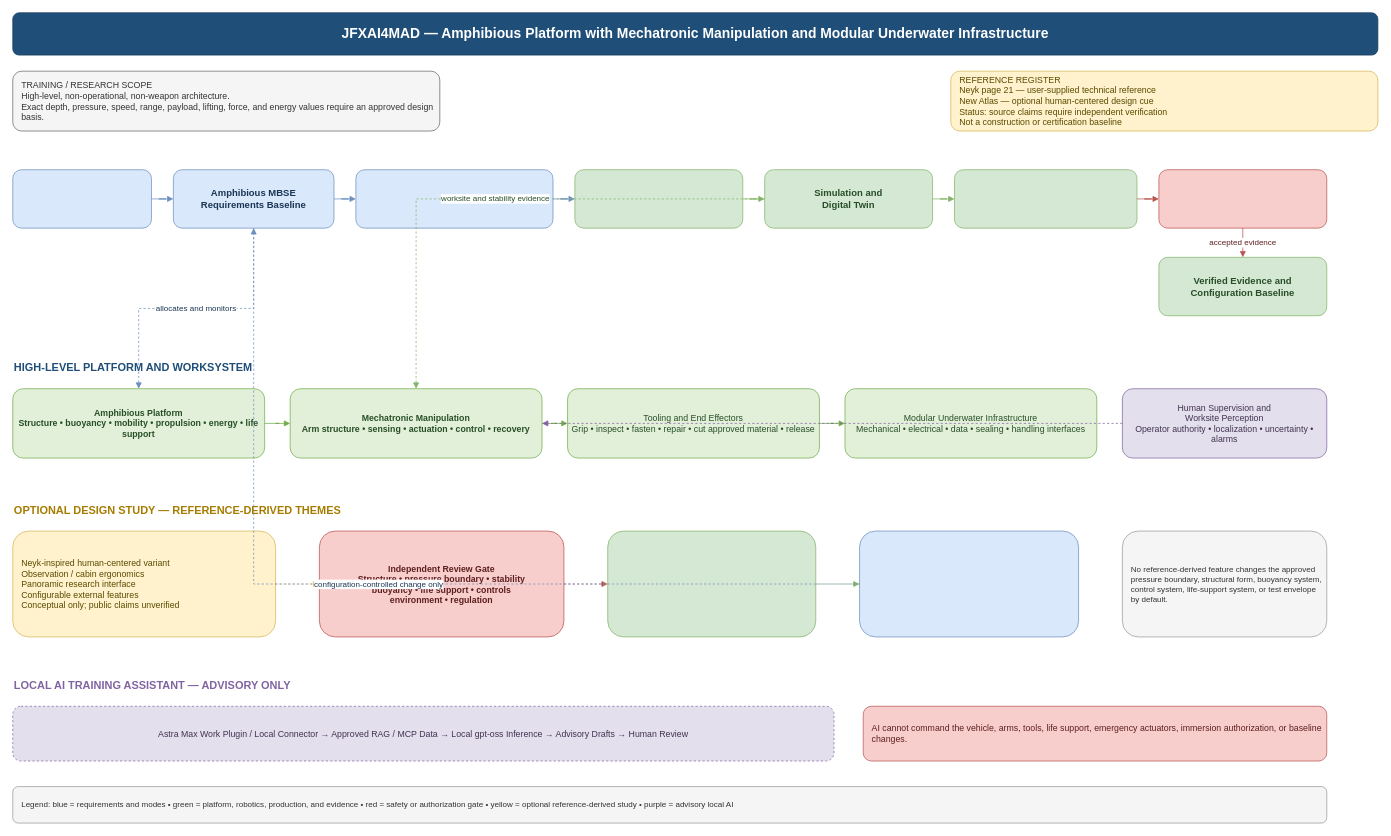
Some shapes in this 1391 by 836 pixel diagram are drawn without their labels. The shapes that lost their labels are listed below. From the top down, each one's centre as x and y in pixels, then its label:
the point at 81,198: Mission and Training Needs
the point at 454,198: Controlled Modes Surface • Dock • Transition • Submerged • Worksite • Recovery
the point at 658,198: Logical and Physical System Architecture
the point at 1045,198: Prototype, Qualification, and Serial Production
the point at 1242,198: Immersion and Worksite Trials
the point at 711,583: Variant Simulation and Qualification Evidence
the point at 969,583: Approved Variant Package or Deferred / Rejected Record
